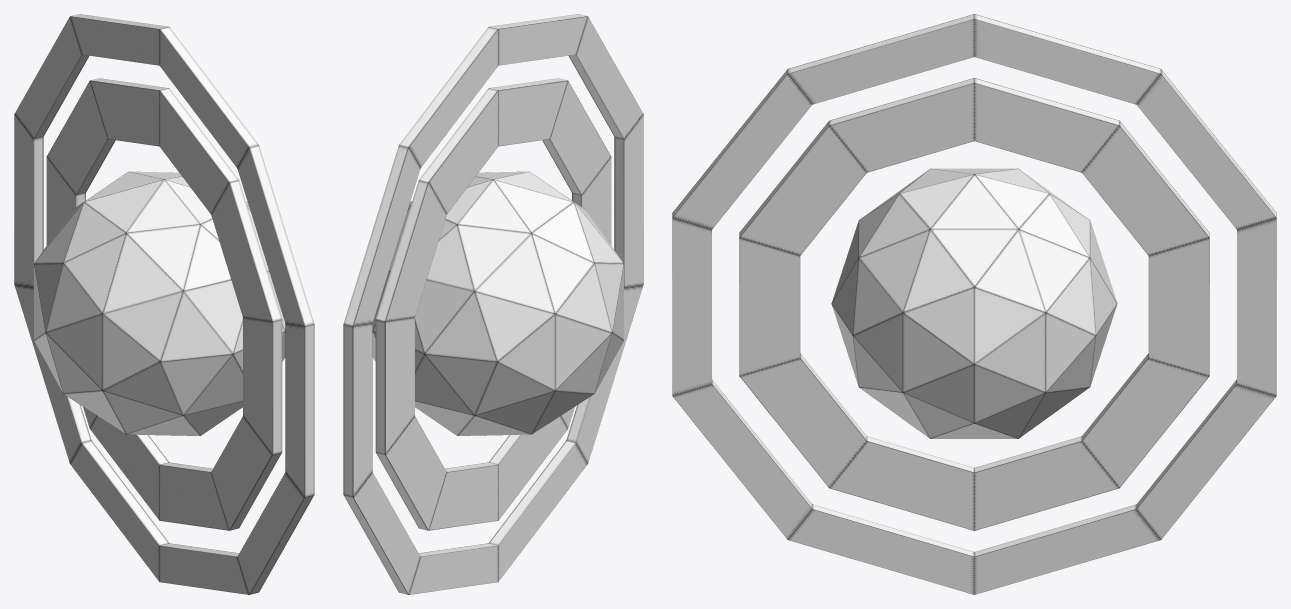
The model's file is Planet-04.fbx.
3 views of the same model, side by side, from view 1: azimuth 30°, elevation 25°; view 2: azimuth 150°, elevation 25°; view 3: azimuth 270°, elevation 25° (orthographic). The views are drawn at different scales.
Visible parts, largest first — view 1: Planet_04; view 2: Planet_04; view 3: Planet_04.
Boxes of the visible parts, x1,y1,x2,y2 form: Planet_04: [14, 14, 314, 594]; Planet_04: [343, 14, 643, 594]; Planet_04: [672, 14, 1276, 594].
Size of the model in its own units: 5.18 by 11.5 by 10.94.
